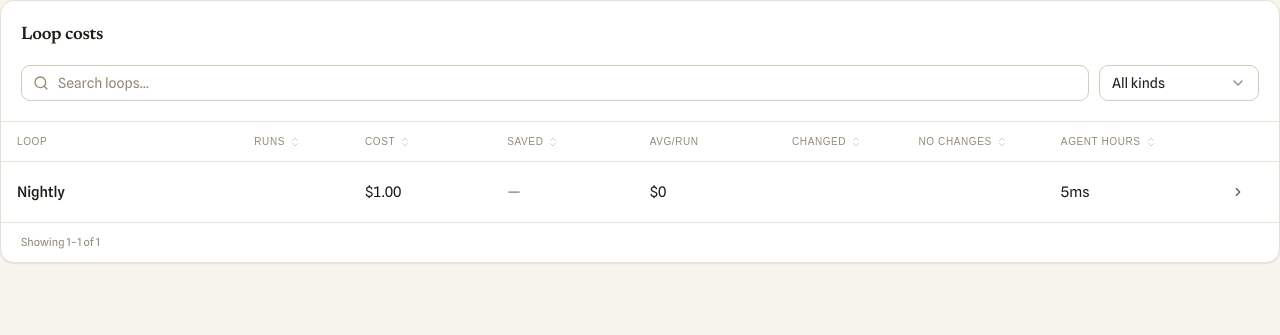
Scenario: row expand toggles carry their state › names what expands and reports whether it is open
Click the button named "Route breakdown for Nightly": [1238, 192] box [1219,176,1257,208]
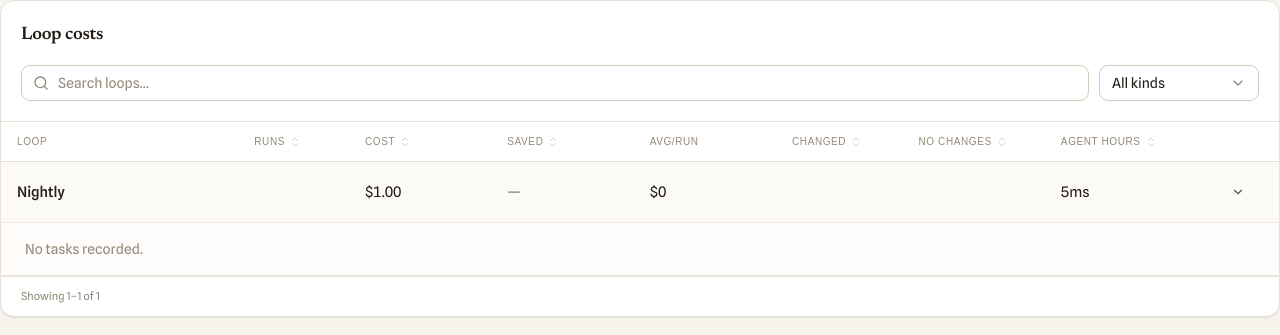
Expected: the button named "Route breakdown for Nightly" is expanded, [1219,176,1257,208]
